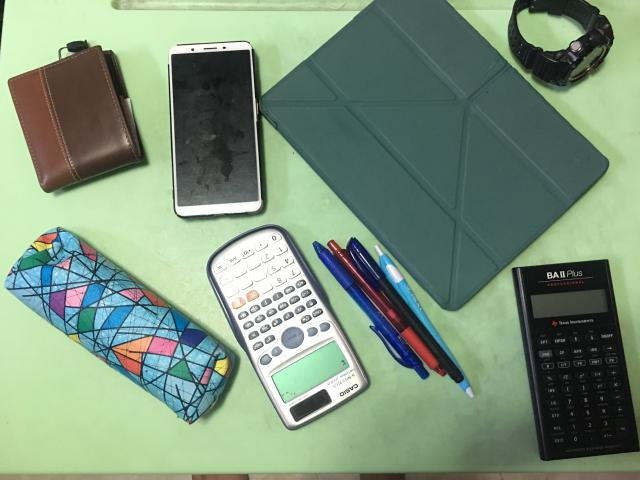Mobile phone: (169, 41, 262, 218)
Pen: (309, 235, 474, 402)
Wallet: (8, 41, 144, 192)
Watch: (509, 0, 614, 85)
